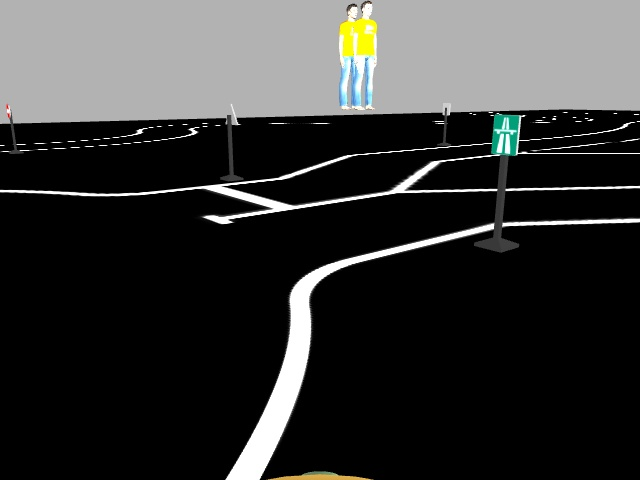HighwayEntrance: (489, 112, 524, 157)
